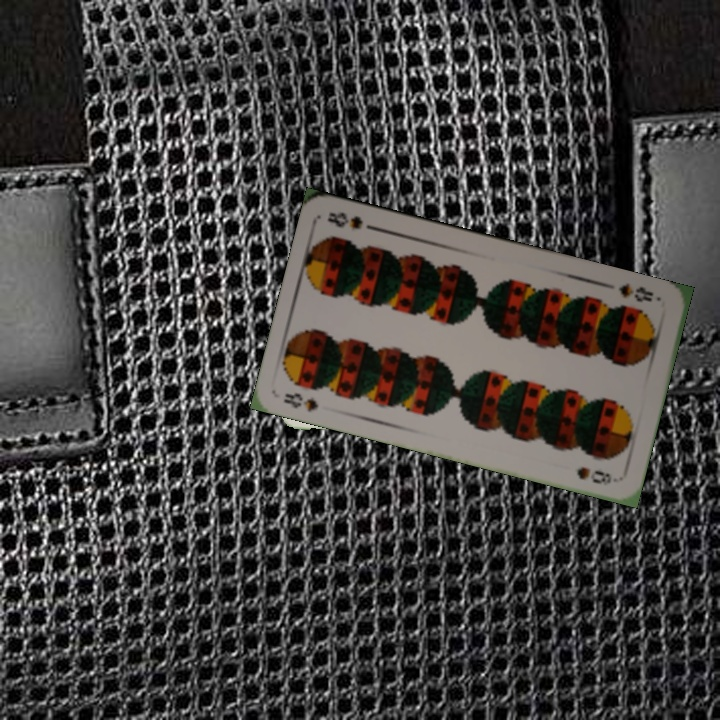S8: (615, 279, 656, 305), (279, 389, 321, 414)
